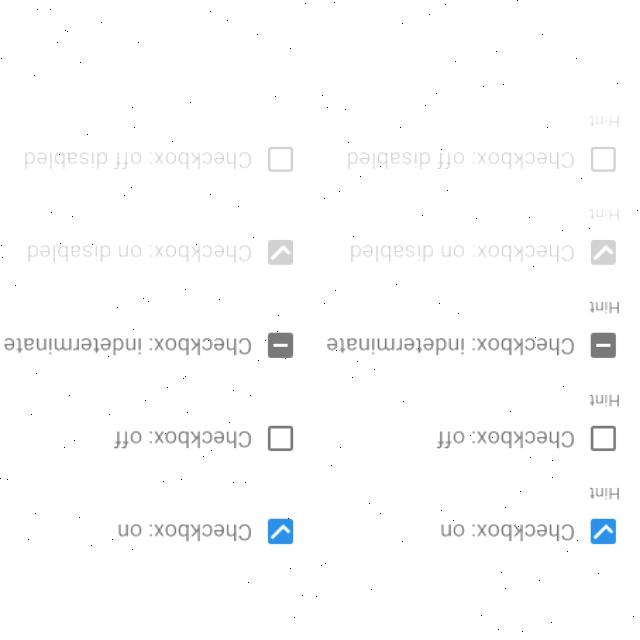QLabel: (3, 334, 253, 358), (325, 334, 575, 358), (346, 148, 576, 170), (22, 149, 252, 171), (26, 242, 252, 264), (438, 520, 574, 542), (117, 521, 251, 543), (435, 430, 577, 450), (113, 430, 253, 448), (589, 392, 621, 410), (589, 300, 621, 316), (588, 113, 620, 129), (590, 486, 620, 502), (589, 208, 621, 222)
VCheckbox: (264, 515, 298, 549), (586, 236, 622, 268), (266, 331, 296, 364), (266, 422, 296, 454), (588, 331, 620, 361), (265, 238, 297, 268), (265, 143, 295, 175), (590, 143, 618, 175), (589, 423, 619, 452), (590, 516, 618, 546)
